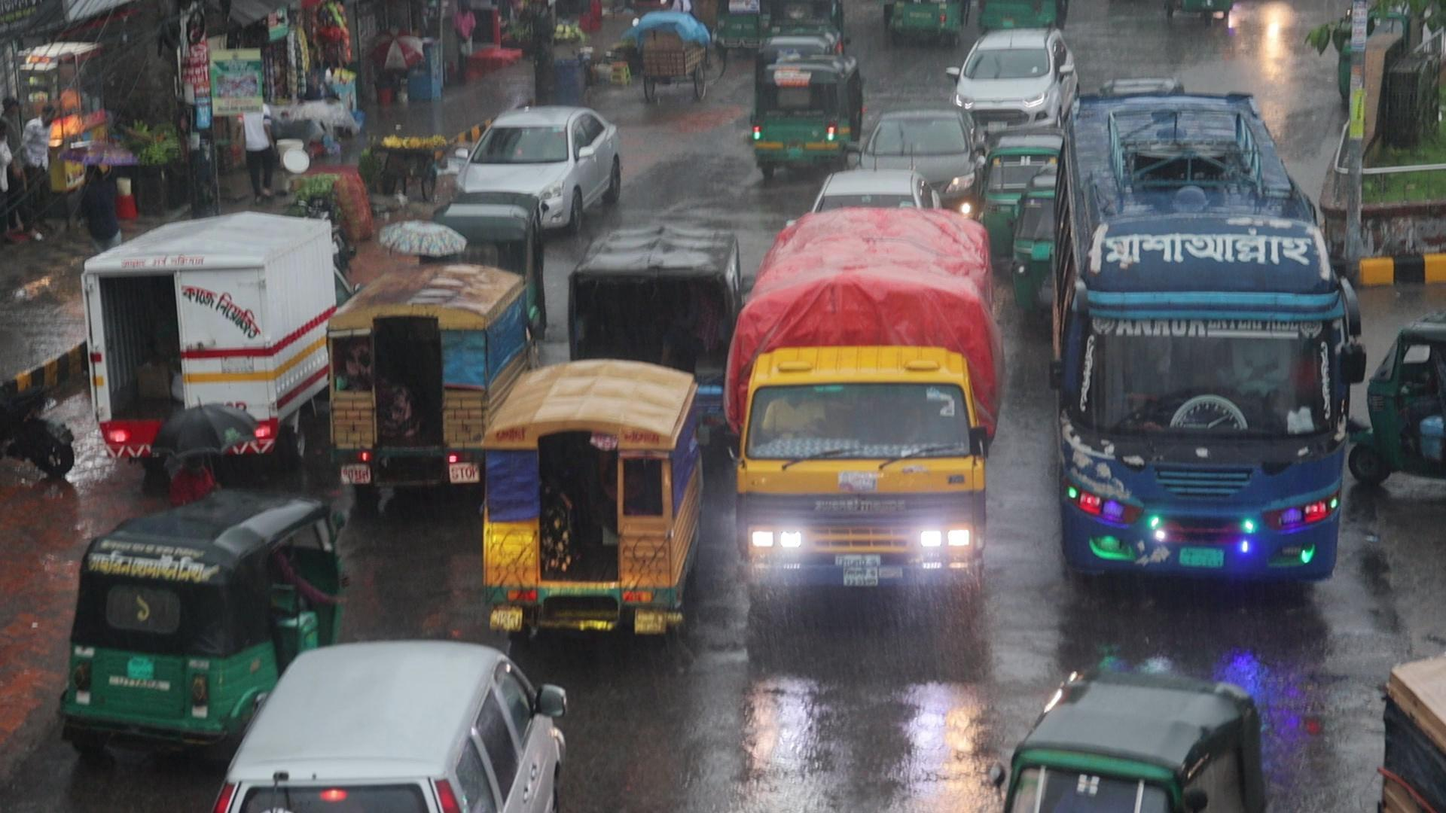Bus: (1051, 81, 1362, 588)
Car: (203, 641, 567, 813), (454, 102, 624, 207), (947, 24, 1075, 113), (860, 105, 975, 170)
Truck: (729, 207, 996, 607), (477, 357, 707, 643), (323, 264, 495, 492), (555, 217, 738, 353)
